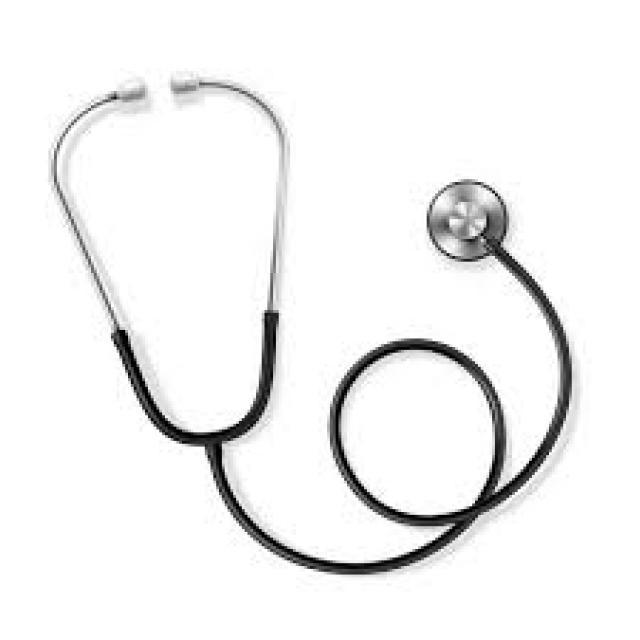stethoscope: (50, 55, 602, 595)
